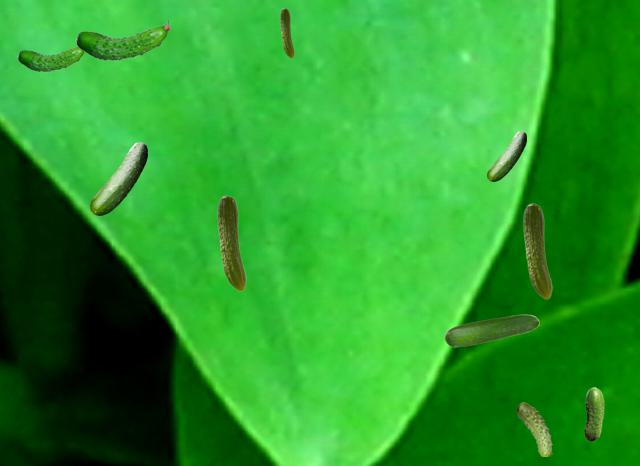cucumber: (90, 142, 146, 214), (75, 19, 169, 60), (444, 314, 538, 346), (523, 203, 551, 298), (217, 195, 245, 290), (487, 131, 525, 180), (516, 402, 551, 455), (17, 46, 84, 71), (584, 387, 603, 440), (280, 8, 293, 57)
